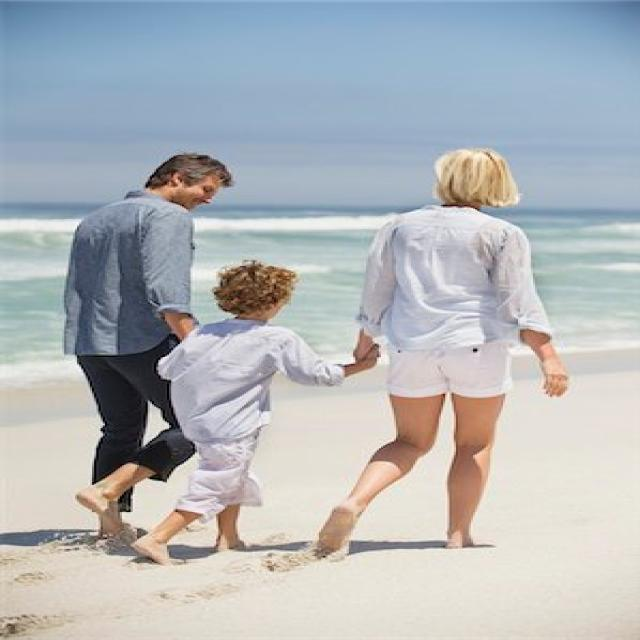Person: (316, 148, 567, 554), (131, 262, 379, 564), (64, 153, 237, 537)
